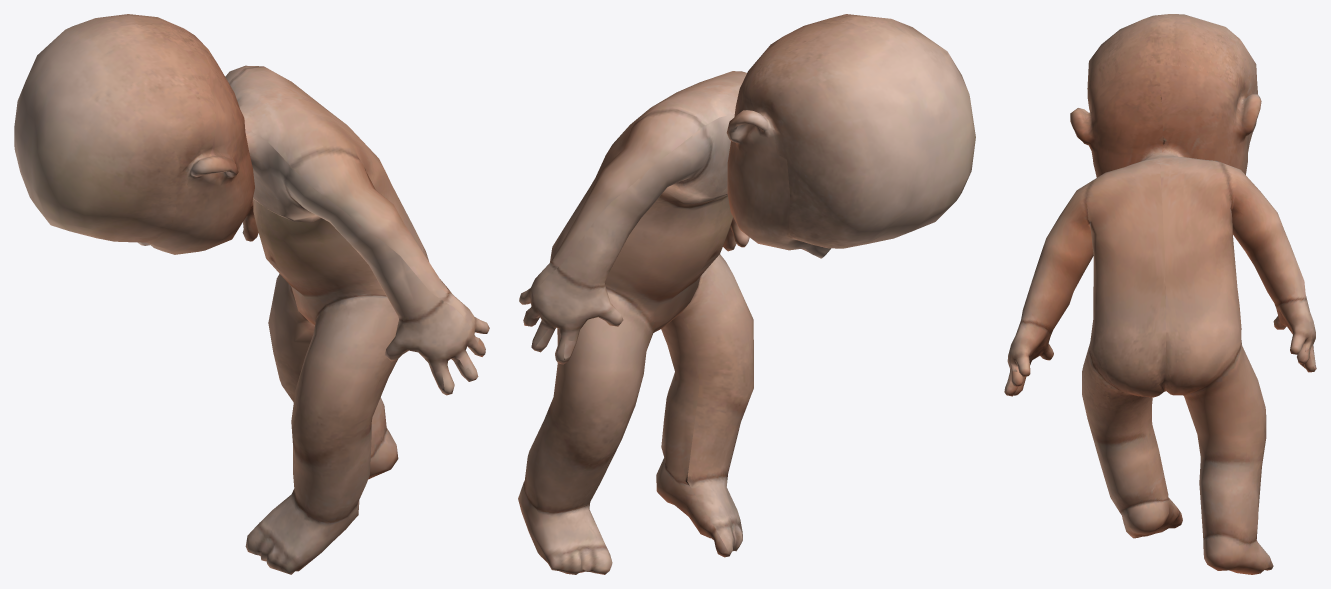
Rendered from SM_BabyDoll_6.fbx.
3 renders of one model, left to right at view 1: azimuth 30°, elevation 25°; view 2: azimuth 150°, elevation 25°; view 3: azimuth 270°, elevation 25°, orthographic. The views are drawn at different scales.
Visible parts, largest first — view 1: SM_BabyDoll_6; view 2: SM_BabyDoll_6; view 3: SM_BabyDoll_6.
Part boxes in pixels (box(x1,y1,x2,y2)): SM_BabyDoll_6: box(14, 14, 489, 574); SM_BabyDoll_6: box(518, 14, 975, 574); SM_BabyDoll_6: box(1004, 14, 1316, 574).
Size of the model in its own units: 14.65 by 12.2 by 19.96.
1 material, 1 textured.
